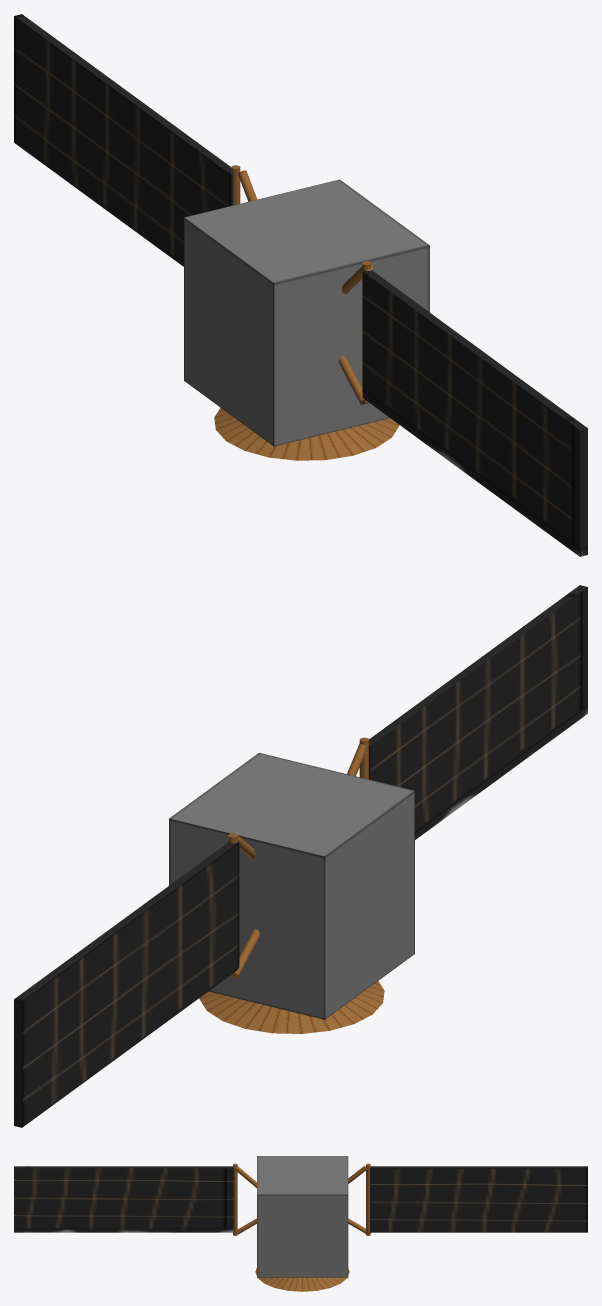
The model's file is Satellite.fbx.
3 views of the same model, one above another, from view 1: azimuth 30°, elevation 25°; view 2: azimuth 150°, elevation 25°; view 3: azimuth 270°, elevation 25° (orthographic). The views are drawn at different scales.
Parts seen in each view (by area): view 1: pasted__pCube7; view 2: pasted__pCube7; view 3: pasted__pCube7.
Boxes of the visible parts, x1=… form: pasted__pCube7: x1=14, y1=14, x2=587, y2=556; pasted__pCube7: x1=14, y1=585, x2=587, y2=1127; pasted__pCube7: x1=14, y1=1156, x2=587, y2=1291.
Bounding box in the file's own units: 2 × 2.73 × 12.15.
Materials: 1 (1 with a texture image).
